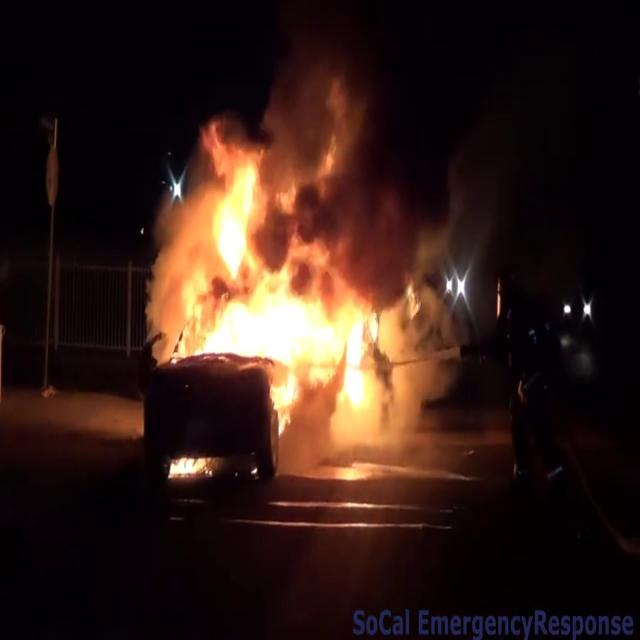Fire: (160, 101, 414, 444), (165, 450, 217, 484)
